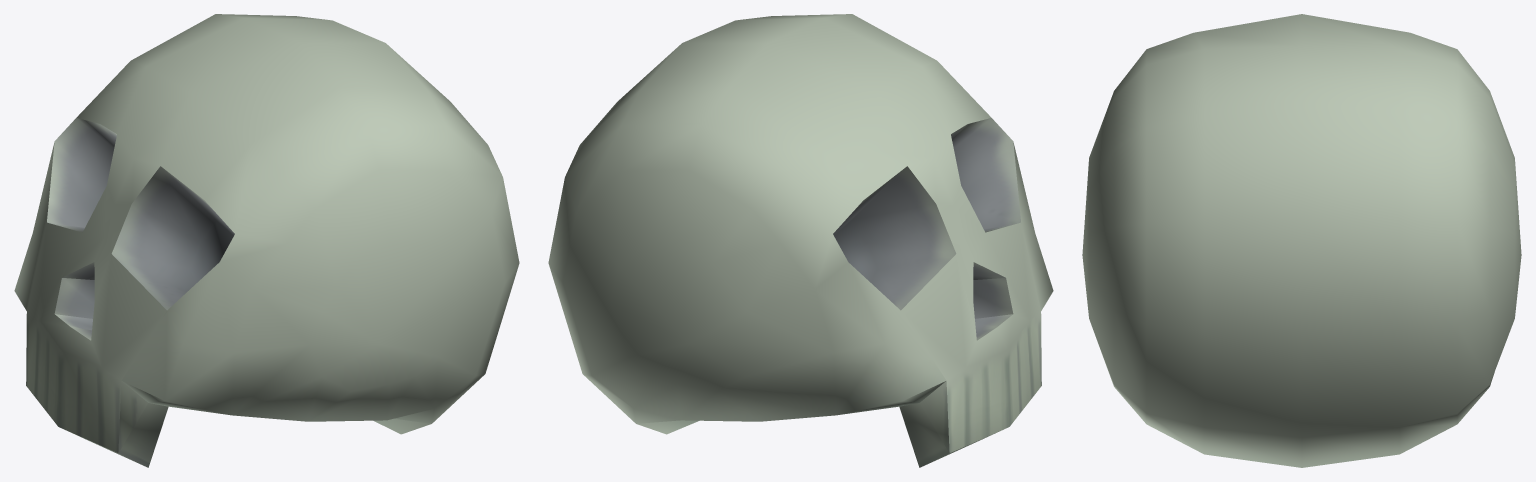
Rendered from hone.fbx.
The picture shows the model from 3 angles, left to right: view 1: azimuth 30°, elevation 25°; view 2: azimuth 150°, elevation 25°; view 3: azimuth 270°, elevation 25°; orthographic projection. The views are drawn at different scales.
Parts seen in each view (by area): view 1: pSphere3; view 2: pSphere3; view 3: pSphere3.
Boxes of the visible parts, x1,y1,x2,y2 form: pSphere3: (14, 14, 519, 467); pSphere3: (548, 14, 1053, 467); pSphere3: (1082, 14, 1521, 467).
Bounding box in the file's own units: 0.3035 × 0.2679 × 0.2717.
